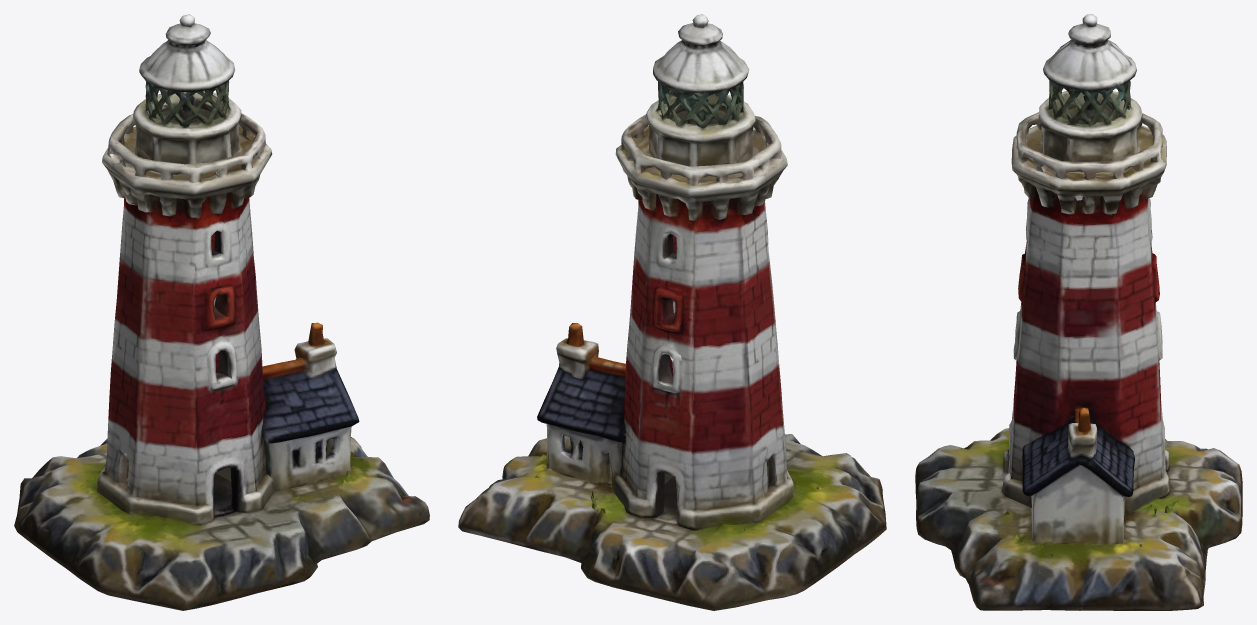
The model's file is lighthouse_a.glb.
3 renders of one model, left to right at view 1: azimuth 30°, elevation 25°; view 2: azimuth 150°, elevation 25°; view 3: azimuth 270°, elevation 25°, orthographic. The views are drawn at different scales.
Visible parts, largest first — view 1: world; view 2: world; view 3: world.
Part boxes in pixels (x1,y1,x2,y2): world: (14, 14, 429, 610); world: (458, 14, 886, 610); world: (915, 14, 1242, 610).
Size of the model in its own units: 0.6664 by 1 by 0.586.
Materials: 1 (1 with a texture image).
